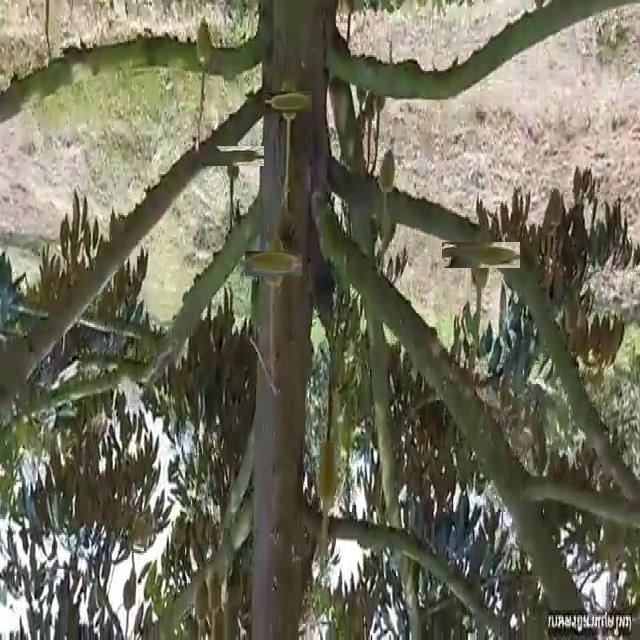durian: (454, 228, 507, 281), (253, 242, 294, 284), (212, 135, 254, 176), (316, 440, 337, 512), (376, 144, 399, 198), (271, 85, 306, 120), (194, 16, 213, 71)
